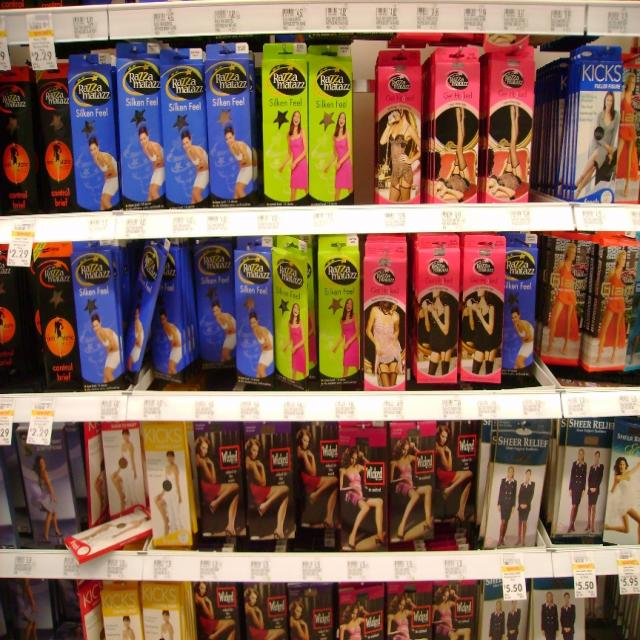q67: (359, 235, 413, 389)
